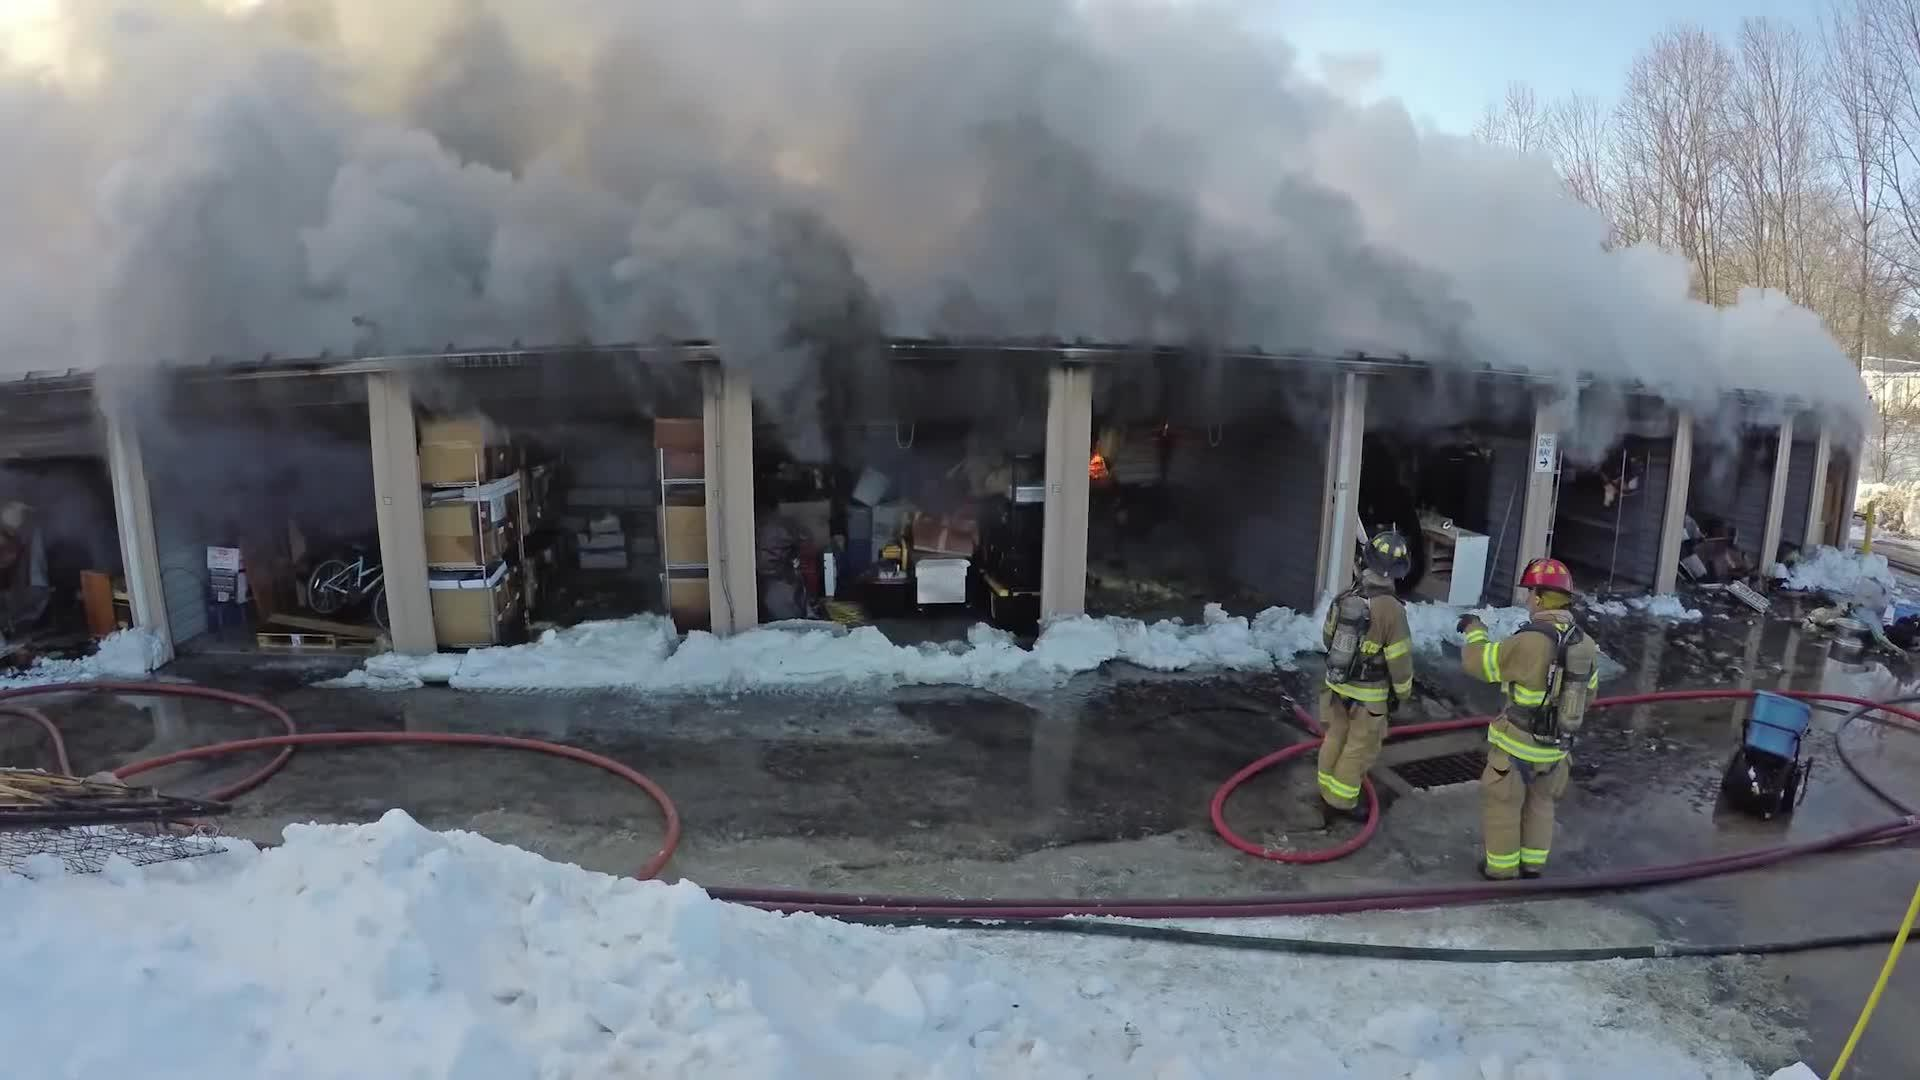smoke: (36, 34, 1410, 342)
